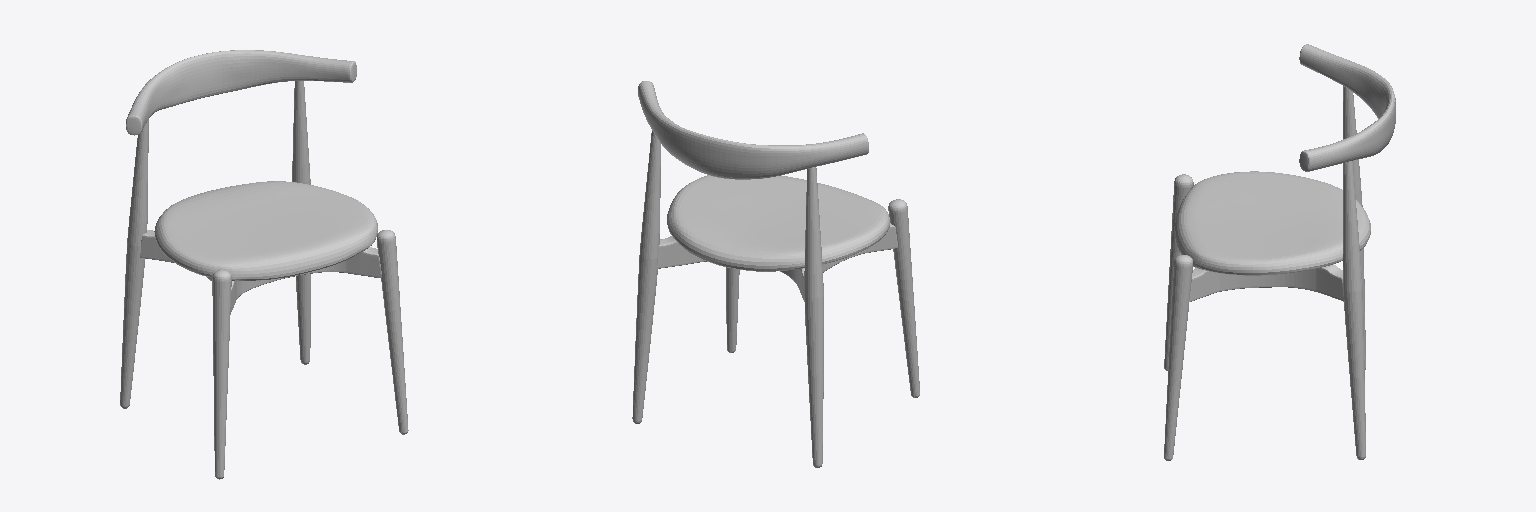
File: hans-wegner-elbow.obj
The picture shows the model from 3 angles: view 1: azimuth 30°, elevation 25°; view 2: azimuth 150°, elevation 25°; view 3: azimuth 270°, elevation 25°; orthographic projection.
Visible parts, largest first — view 1: Cylinder001; view 2: Cylinder001; view 3: Cylinder001.
Part boxes in pixels (x1,y1,x2,y2): Cylinder001: (120,50,408,479); Cylinder001: (632,81,919,467); Cylinder001: (1164,44,1395,460).
Bounding box in the file's own units: 546 × 722 × 476.